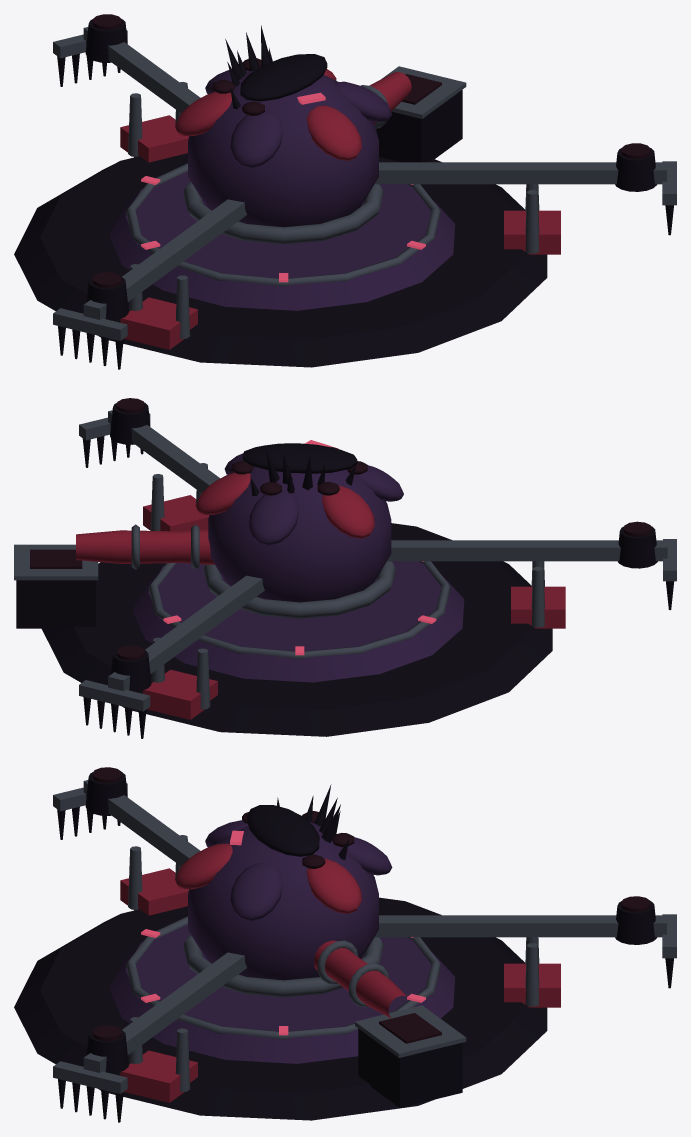
Rendered from bio-reactor-directorate.glb.
The picture shows the model from 3 angles, top to bottom: view 1: azimuth 30°, elevation 25°; view 2: azimuth 150°, elevation 25°; view 3: azimuth 270°, elevation 25°; orthographic projection. The views are drawn at different scales.
Visible parts, largest first — view 1: holdfast_mat, footprint_slab, reactor_vessel, intake_boom (×3), anchor_foot (×3), outflow_hopper, throat_drum (×3), mound_collar, slab_kerb, mound_seam, rake_beam (×3), base_scute_2 (+8 smaller); view 2: holdfast_mat, footprint_slab, reactor_vessel, intake_boom (×3), anchor_foot (×3), outflow_hopper, outflow_gullet, throat_drum (×3), mound_collar, slab_kerb, mound_seam, rake_beam (×3) (+8 smaller); view 3: holdfast_mat, footprint_slab, reactor_vessel, intake_boom (×3), anchor_foot (×3), outflow_hopper, throat_drum (×3), slab_kerb, mound_collar, mound_seam, outflow_gullet, rake_beam (×3) (+10 smaller).
Part boxes in pixels (x1,y1,x2,y2): holdfast_mat: (14, 153, 547, 367); footprint_slab: (109, 171, 455, 310); reactor_vessel: (188, 71, 378, 227); intake_boom (×3): (83, 27, 666, 319); anchor_foot (×3): (120, 115, 560, 349); outflow_hopper: (376, 90, 462, 162); throat_drum (×3): (85, 19, 657, 320); mound_collar: (183, 181, 383, 244); slab_kerb: (126, 163, 441, 286); mound_seam: (240, 54, 327, 101); rake_beam (×3): (53, 30, 676, 340); base_scute_2: (230, 110, 282, 167); holdfast_mat: (42, 523, 552, 736); footprint_slab: (132, 561, 464, 682); reactor_vessel: (208, 466, 391, 602); intake_boom (×3): (108, 410, 667, 691); anchor_foot (×3): (143, 495, 565, 719); outflow_hopper: (16, 580, 95, 628); outflow_gullet: (76, 529, 214, 564); throat_drum (×3): (110, 402, 657, 691); mound_collar: (203, 561, 395, 618); slab_kerb: (148, 561, 450, 659); mound_seam: (242, 443, 357, 473); rake_beam (×3): (79, 413, 676, 711); holdfast_mat: (14, 897, 547, 1120); footprint_slab: (109, 924, 455, 1063); reactor_vessel: (188, 822, 378, 980); intake_boom (×3): (83, 780, 666, 1072); anchor_foot (×3): (120, 868, 560, 1102); outflow_hopper: (358, 1028, 462, 1107); throat_drum (×3): (85, 772, 657, 1073); slab_kerb: (126, 916, 441, 1039); mound_collar: (183, 934, 383, 997); mound_seam: (247, 805, 319, 856); outflow_gullet: (314, 940, 409, 1018); rake_beam (×3): (53, 783, 676, 1093).
Bounding box in the file's own units: 180 × 57.03 × 166.
